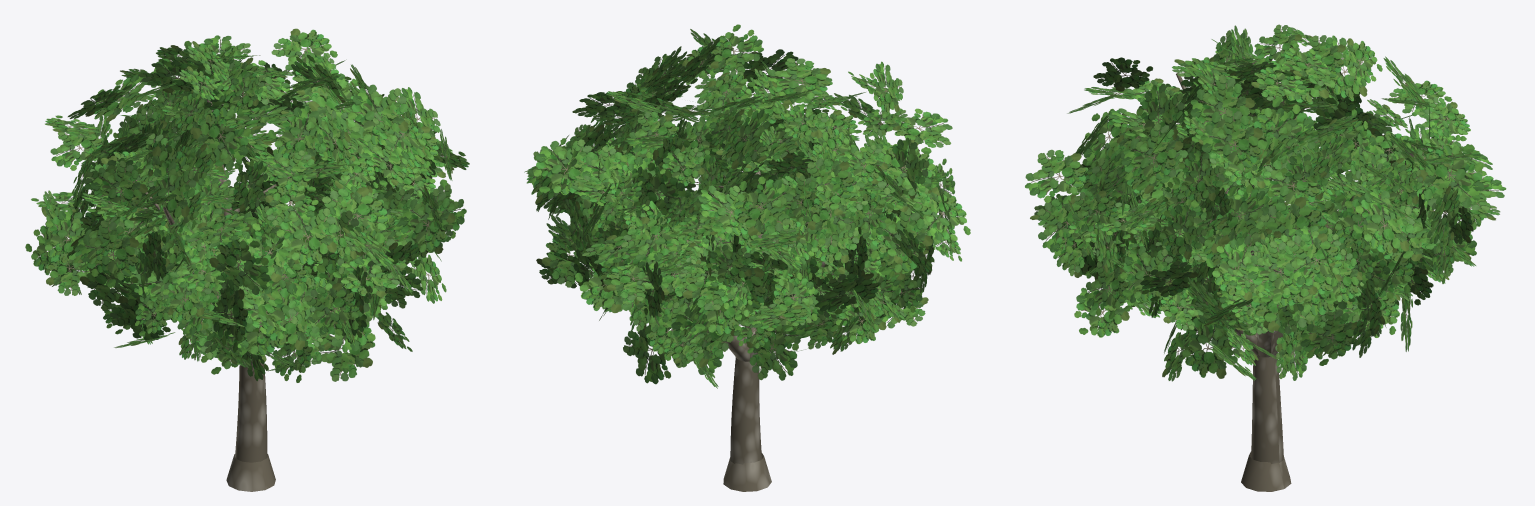
File: chinor_1.glb
3 views of the same model, side by side, from view 1: azimuth 30°, elevation 25°; view 2: azimuth 150°, elevation 25°; view 3: azimuth 270°, elevation 25° (orthographic). The views are drawn at different scales.
Visible parts, largest first — view 1: chinor_leaves, chinor_bark; view 2: chinor_leaves, chinor_bark; view 3: chinor_leaves, chinor_bark.
Part boxes in pixels (left/top/right/bottom): chinor_leaves: left=25, top=28, right=469, bottom=382; chinor_bark: left=118, top=84, right=392, bottom=491; chinor_leaves: left=524, top=24, right=970, bottom=388; chinor_bark: left=559, top=142, right=919, bottom=491; chinor_leaves: left=1025, top=24, right=1506, bottom=381; chinor_bark: left=1137, top=60, right=1419, bottom=491.
Bounding box in the file's own units: 13.89 × 13.41 × 13.94.
Materials: 2 (2 with a texture image).
